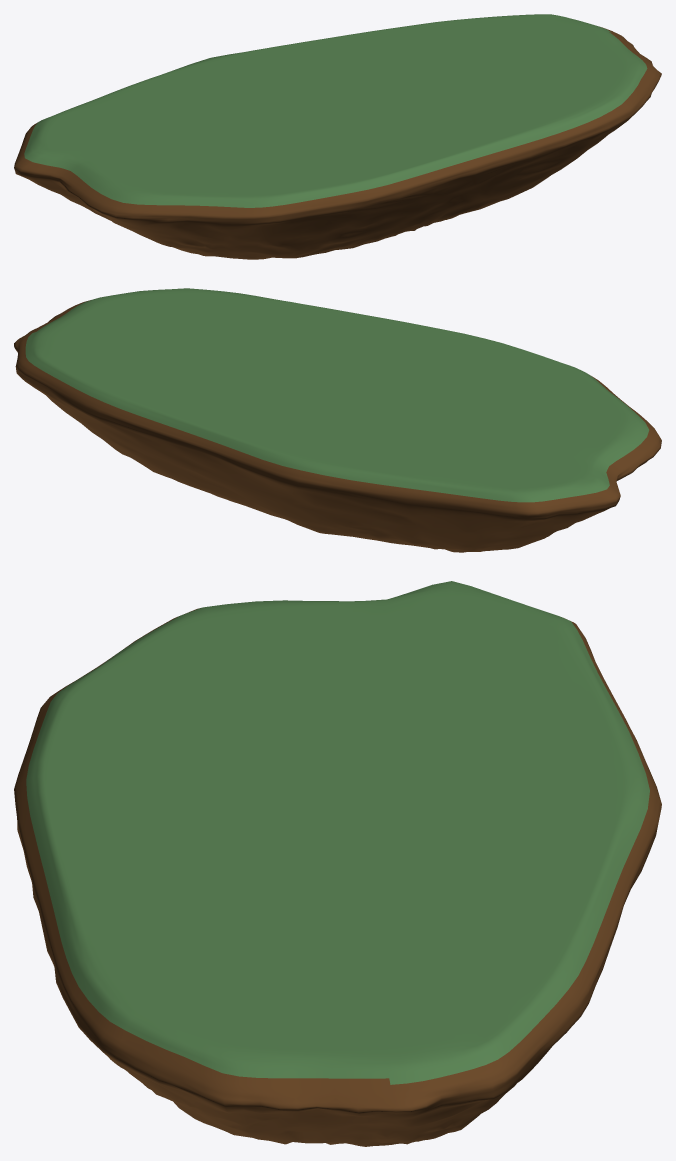
File: moving_plat_2.fbx
3 renders of one model, top to bottom at view 1: azimuth 30°, elevation 25°; view 2: azimuth 150°, elevation 25°; view 3: azimuth 270°, elevation 25°, orthographic. The views are drawn at different scales.
Parts seen in each view (by area): view 1: polySurface27; view 2: polySurface27; view 3: polySurface27.
Part boxes in pixels (box(x1,y1,x2,y2)): polySurface27: box(14, 14, 661, 259); polySurface27: box(14, 288, 661, 552); polySurface27: box(14, 581, 661, 1146).
Size of the model in its own units: 34.08 by 5.24 by 17.88.
